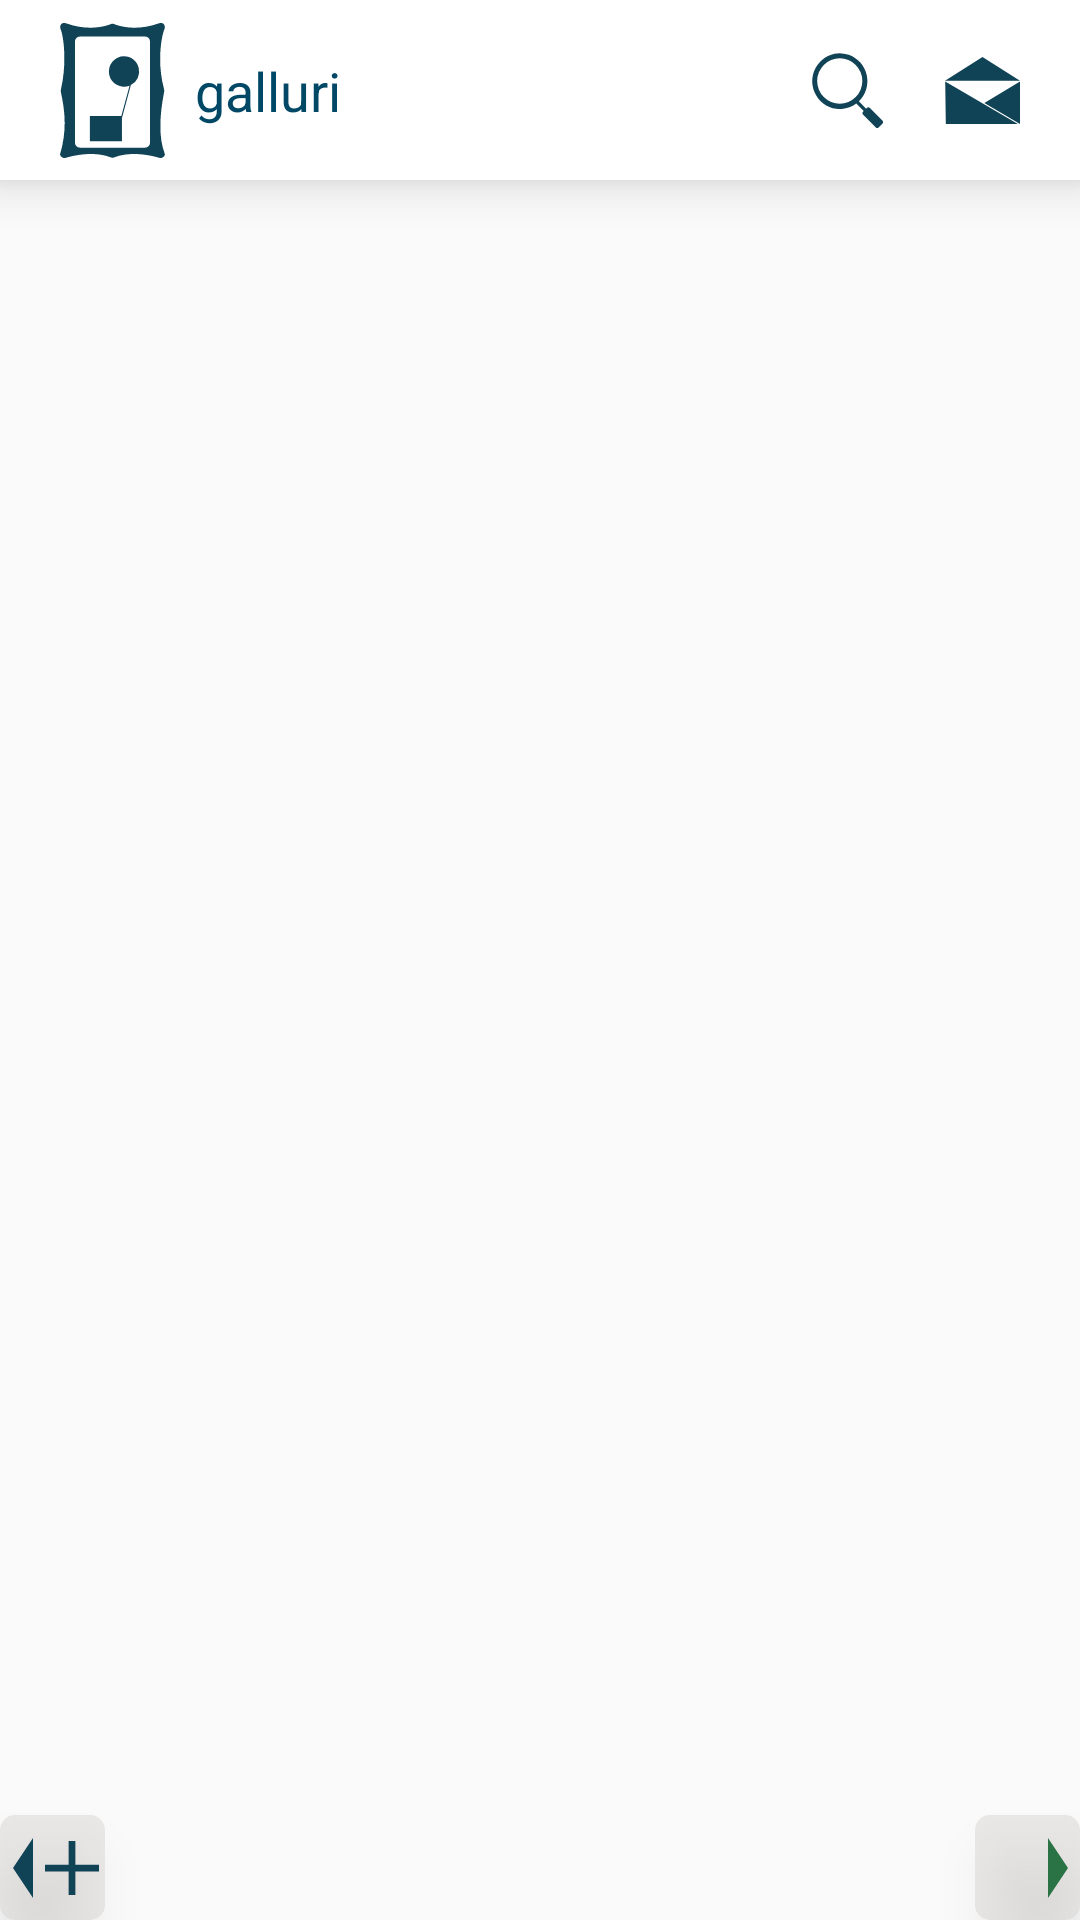

Icons on this 1080*1920 Android screen, each with its box as bbox=(x1, y1, x2, y2):
arrow left: bbox=(13, 1838, 33, 1898)
arrow right: bbox=(1048, 1838, 1068, 1898)
mail: bbox=(945, 57, 1020, 124)
plus: bbox=(45, 1841, 99, 1895)
search: bbox=(812, 53, 883, 128)
